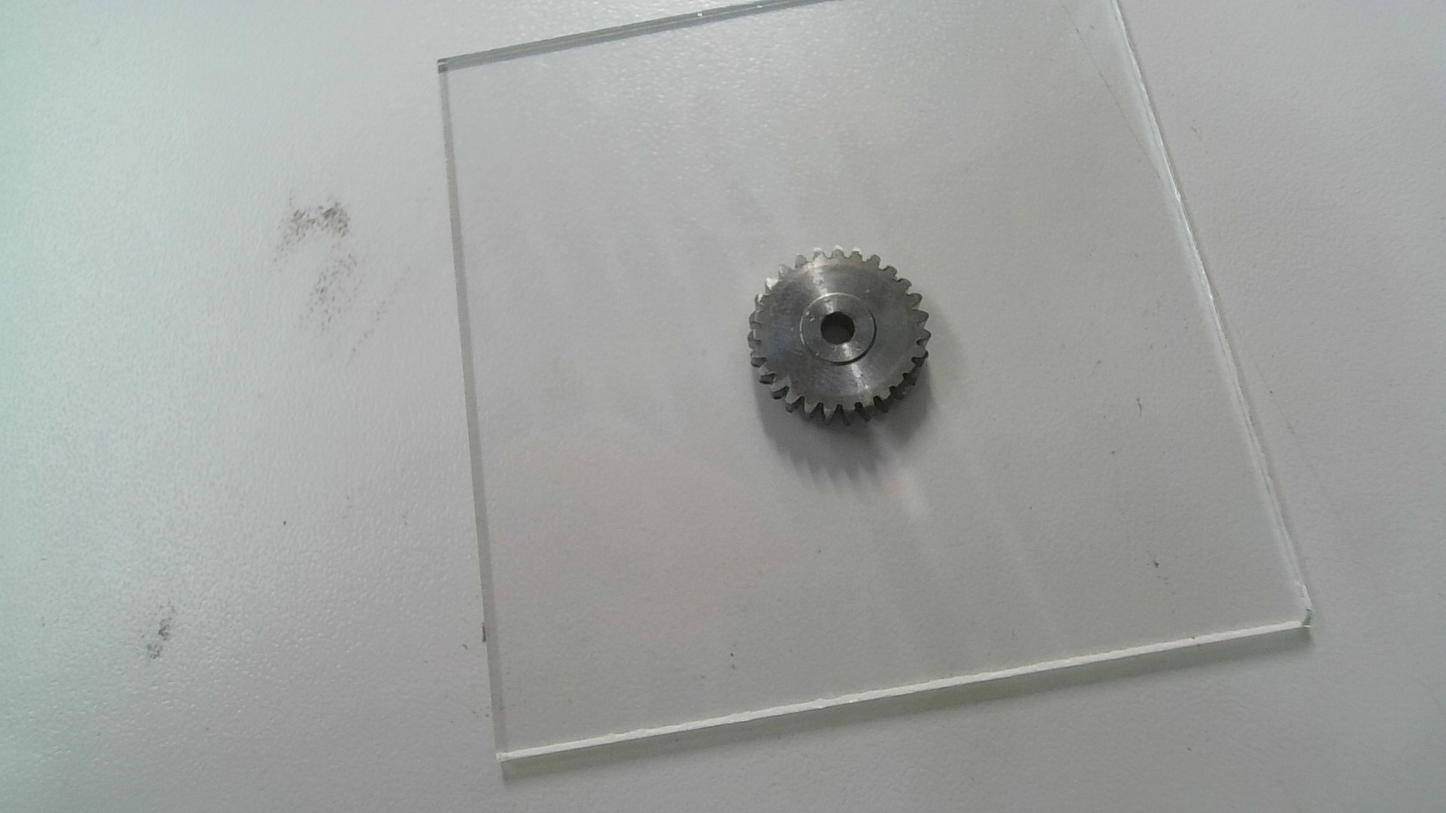gear: (742, 237, 933, 422)
